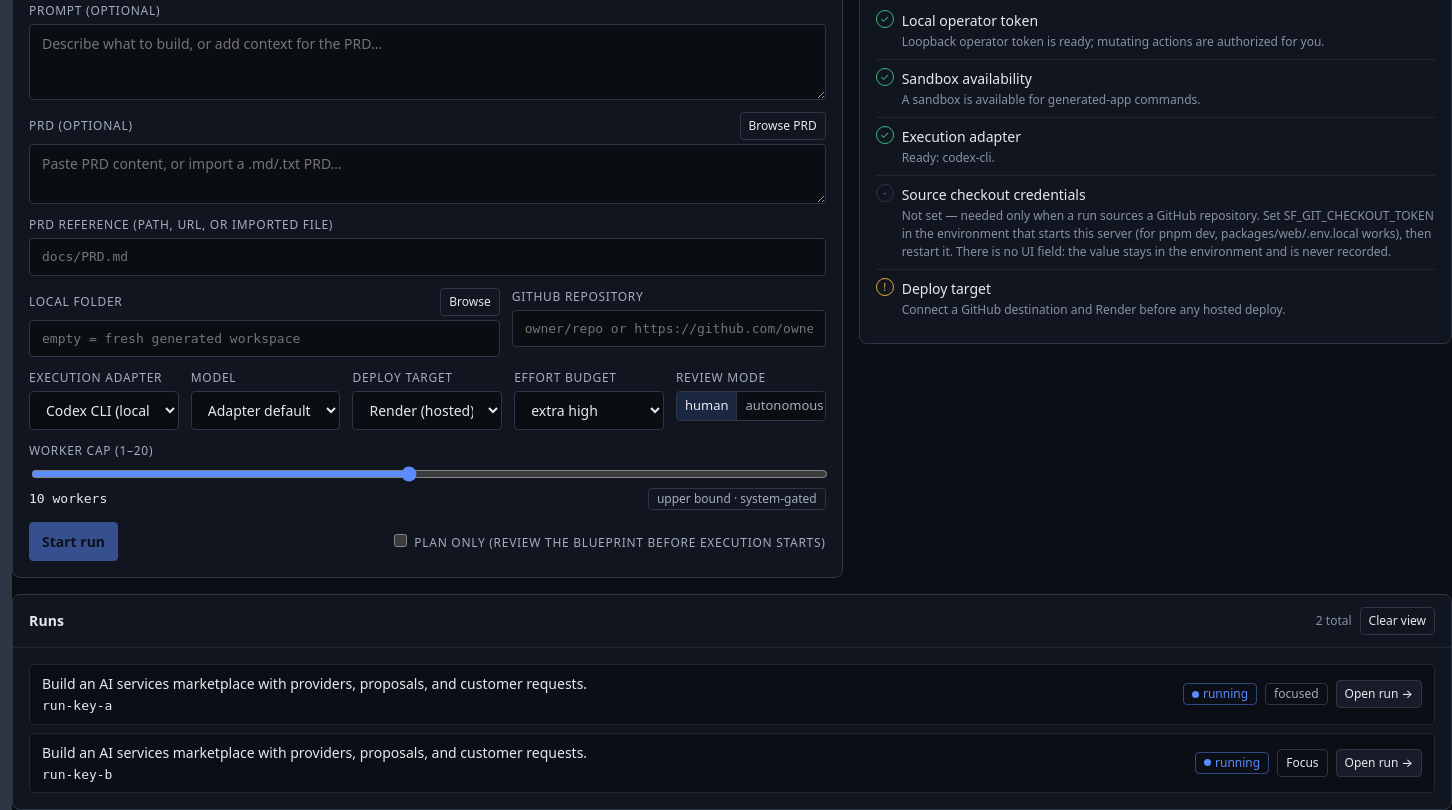
Scenario: FactoryFloor blueprint-first hierarchy (U9/KTD7) › switching focus remounts the blueprint: the loading state shows, never the previous run
(page scrolled)
Click the button "Focus" at (1302,763), box 1277,749 -> 1328,777
(page scrolled)
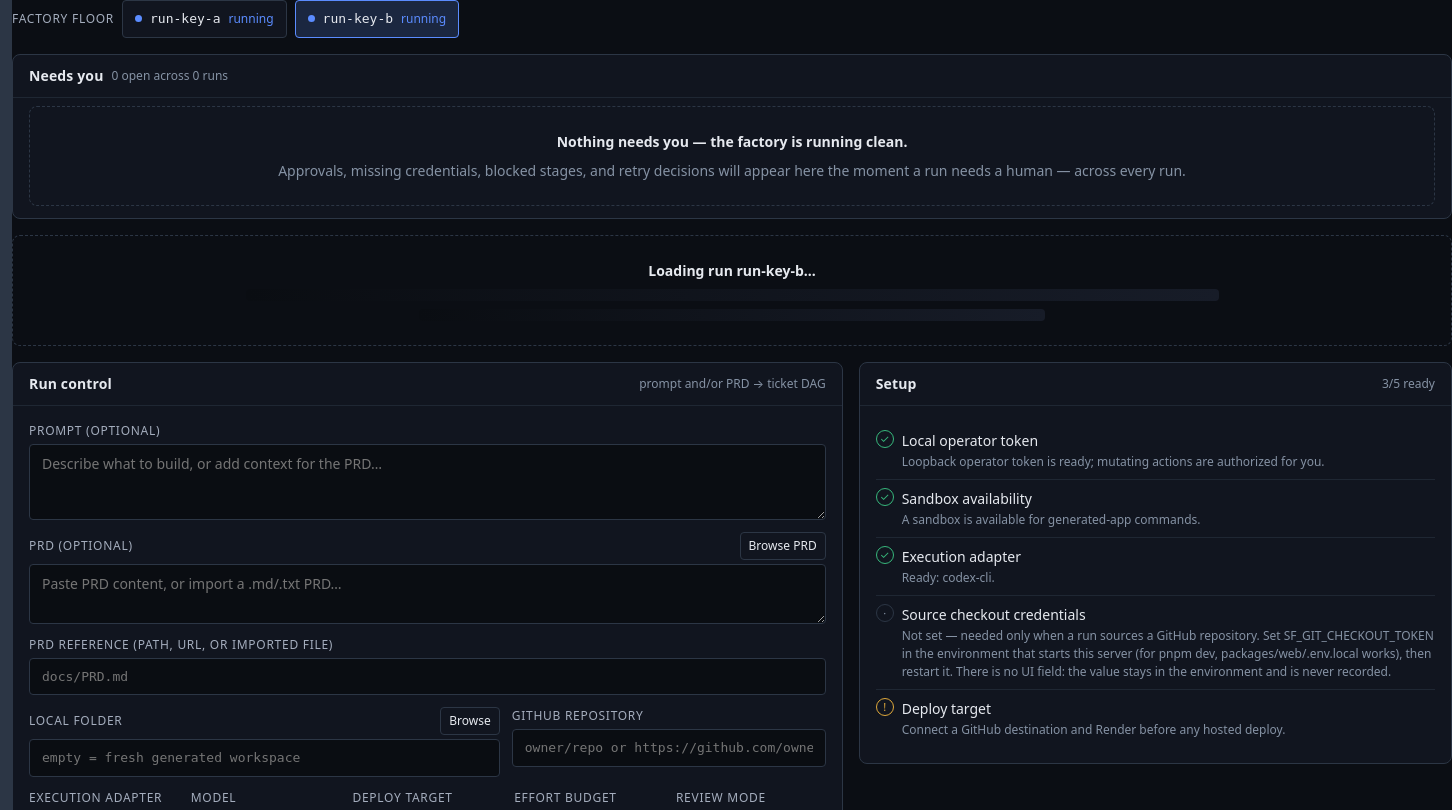
Expected: the message with test id "blueprint-loading" shows "Loading run run-key-b", 648,260 -> 816,280
